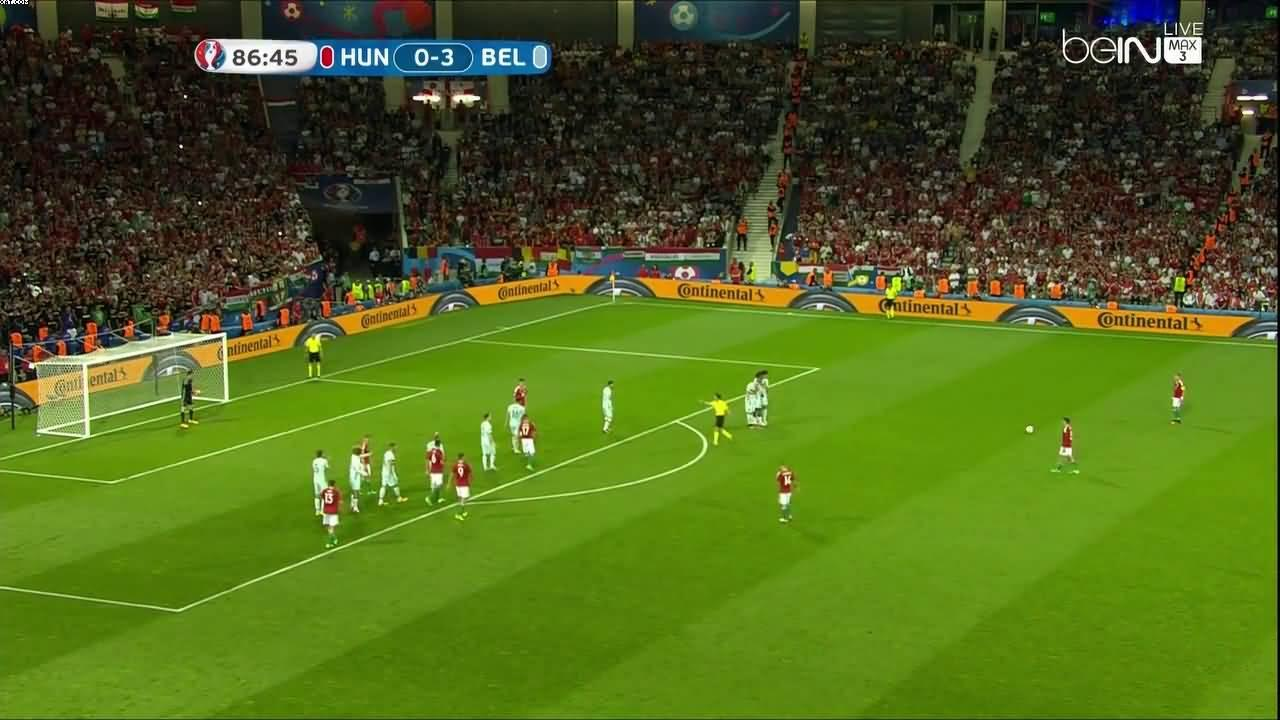ball: (1026, 425, 1034, 434)
goalkeeper: (180, 370, 200, 429)
player: (377, 442, 409, 505), (1051, 418, 1080, 474), (449, 452, 472, 522), (321, 479, 343, 549), (350, 447, 372, 514), (775, 462, 797, 524), (425, 441, 446, 505), (311, 450, 330, 517), (505, 397, 525, 456), (358, 436, 377, 496), (479, 413, 497, 471), (428, 432, 444, 497), (519, 415, 537, 472), (1168, 373, 1185, 424), (514, 377, 530, 425), (601, 379, 614, 433), (759, 369, 770, 426), (746, 382, 757, 429), (754, 373, 763, 425)
referee: (701, 393, 733, 444), (304, 333, 323, 379), (883, 283, 897, 322)
